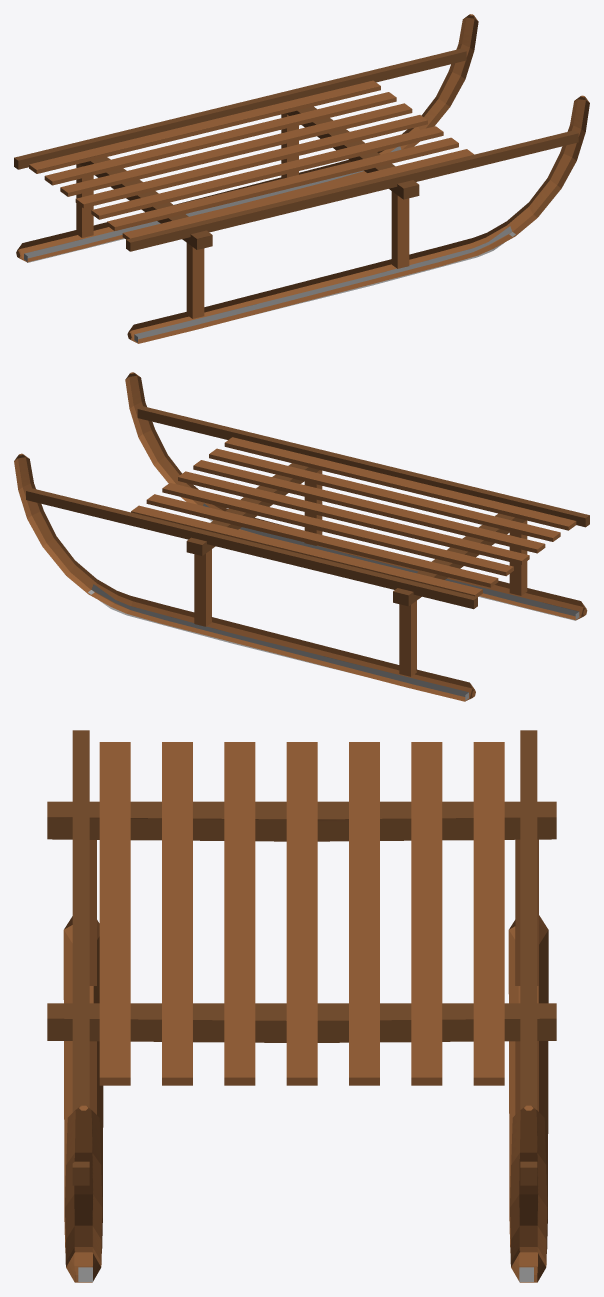
The model's file is b2d12e8d-e54e-45a8-9426-d36a6bcb45a9.glb.
3 views of the same model, one above another, from view 1: azimuth 30°, elevation 25°; view 2: azimuth 150°, elevation 25°; view 3: azimuth 270°, elevation 25° (orthographic). The views are drawn at different scales.
Visible parts, largest first — view 1: Node; view 2: Node; view 3: Node.
Boxes of the visible parts, <box> form: Node: <box>14,14,589,343</box>; Node: <box>14,372,589,701</box>; Node: <box>47,730,556,1282</box>.
Bounding box in the file's own units: 767 × 219 × 367.
1 material, 1 textured.
